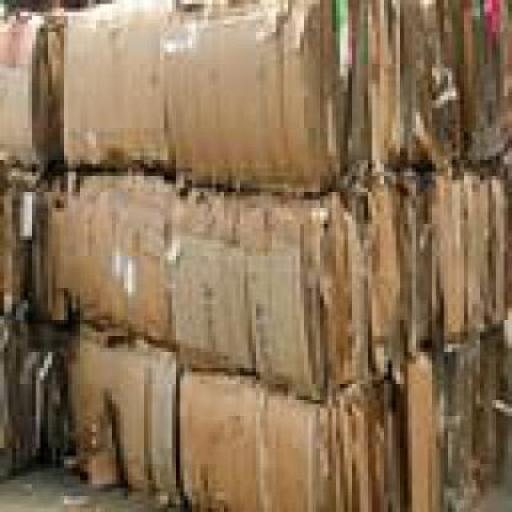cardboard: (0, 0, 508, 508), (168, 176, 396, 384), (156, 0, 392, 176), (176, 356, 396, 508), (48, 324, 180, 504), (372, 0, 508, 169), (388, 160, 508, 336), (48, 168, 176, 332), (40, 4, 168, 164), (400, 332, 508, 508), (0, 4, 52, 164), (0, 320, 48, 476), (0, 164, 41, 321)
